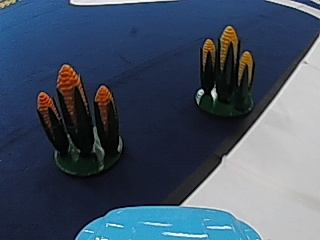corn: (35, 60, 126, 176), (191, 22, 259, 117)
